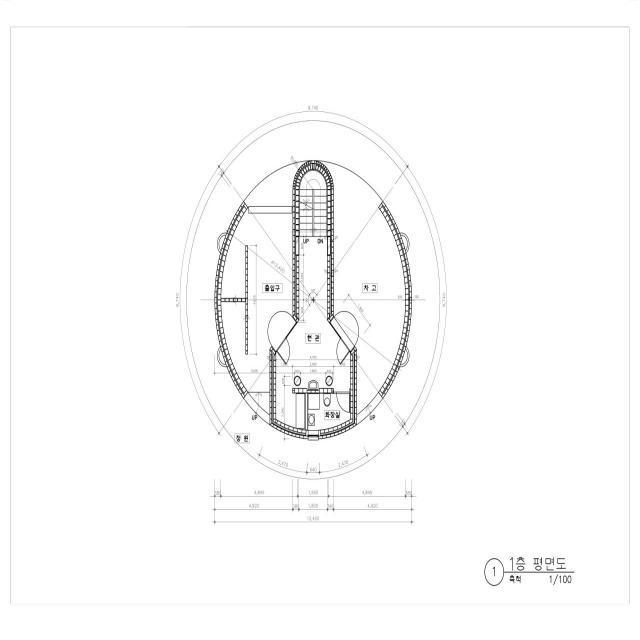space_front: (276, 237, 350, 430)
space_other: (221, 208, 293, 415), (334, 207, 405, 415)
space_staircase: (299, 170, 327, 237)
space_toilet: (308, 393, 350, 430)
